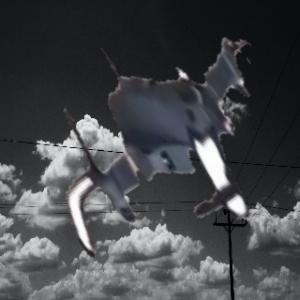drone: (39, 21, 300, 283)
